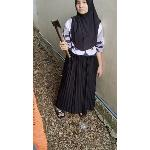Kapak: (49, 19, 73, 61)
